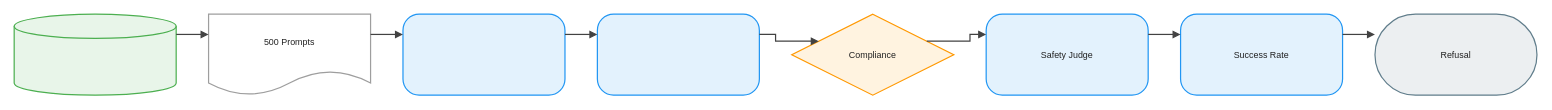
The diagram is 1552 pixels wide and 110 high, and some of its shapes have lost their labels. Each missing label, with the centre of its shape:
"Attack Suffix" belongs at [483,54].
"Harmful Tasks" belongs at [94,54].
"Model Queries" belongs at [678,54].
